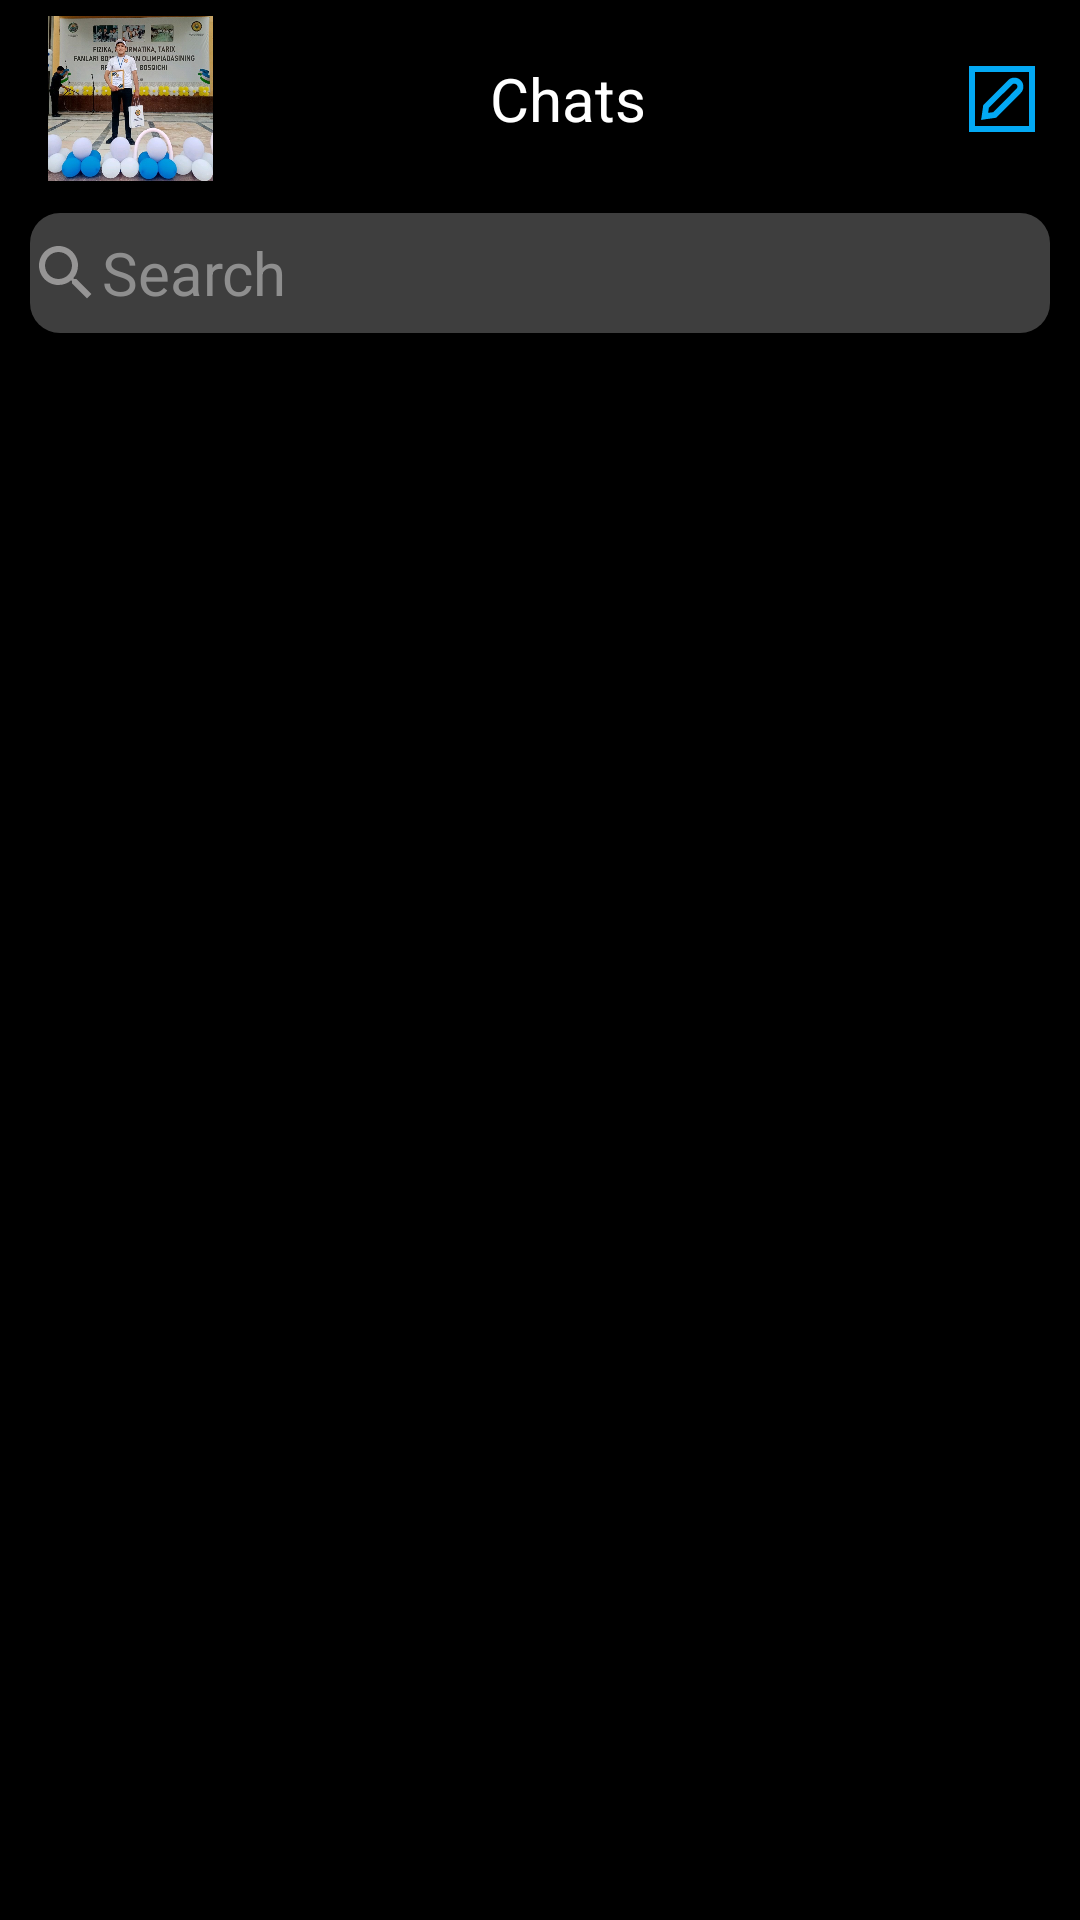

Screen size 1080 x 1920. Icon name, then its center in pixels as point (x, y):
pen square: point (1002, 99)
user: point (130, 98)
